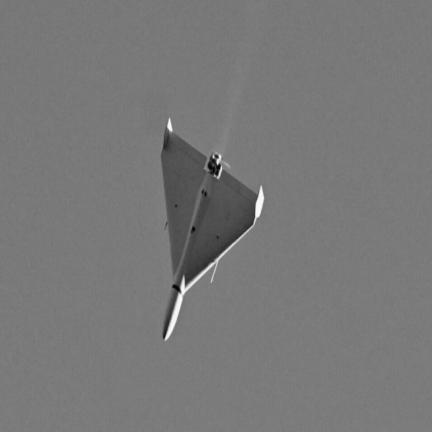Shahed: (162, 119, 264, 340)
